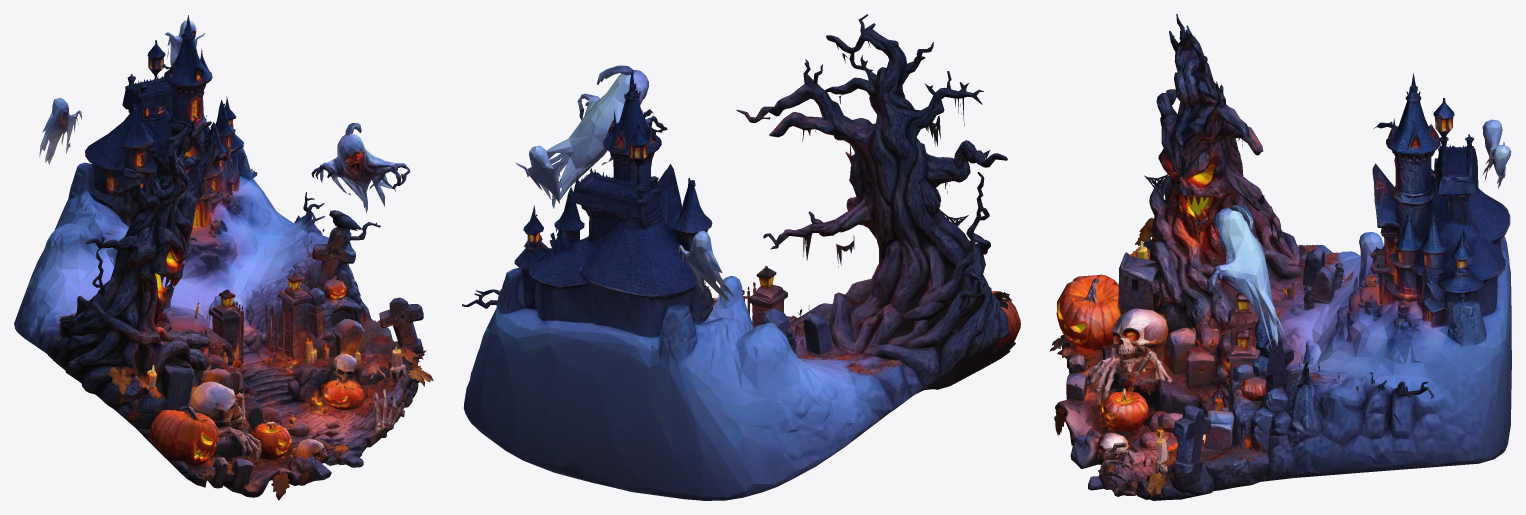
File: castelo_assombrado.glb
The picture shows the model from 3 angles, left to right: view 1: azimuth 30°, elevation 25°; view 2: azimuth 150°, elevation 25°; view 3: azimuth 270°, elevation 25°; orthographic projection. The views are drawn at different scales.
Parts seen in each view (by area): view 1: plush; view 2: plush; view 3: plush.
Part boxes in pixels (x1,y1,x2,y2): plush: (14, 15, 433, 500); plush: (462, 14, 1020, 500); plush: (1050, 14, 1511, 500).
Bounding box in the file's own units: 0.9782 × 0.9208 × 0.9616.
1 material, 1 textured.
